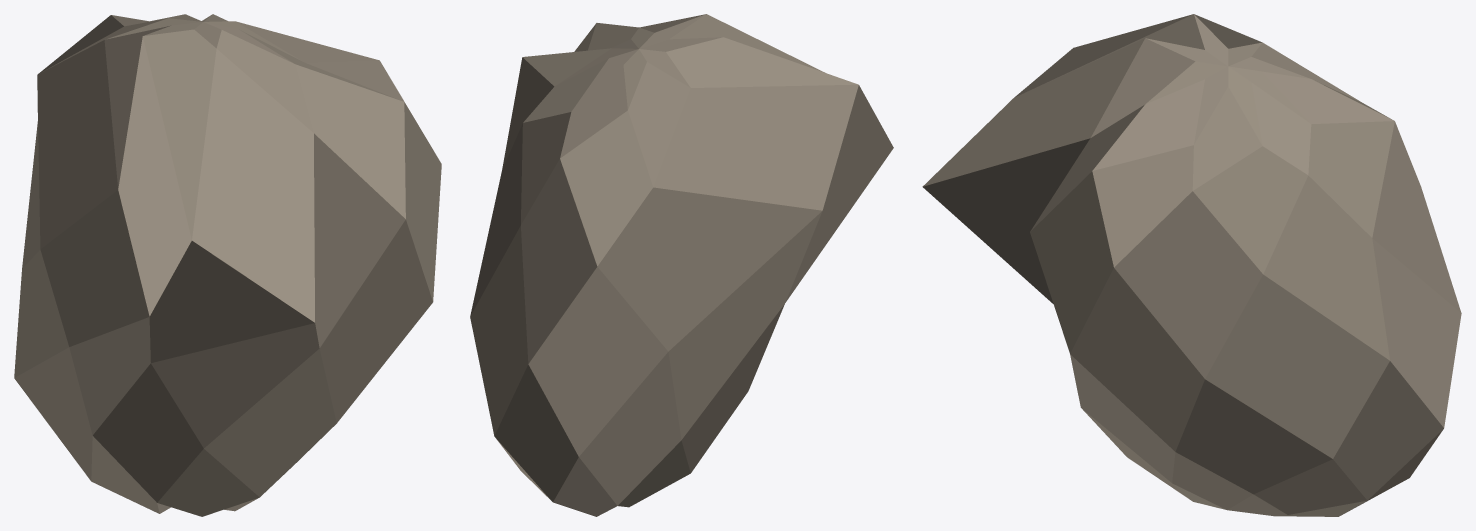
Rendered from rock 3.fbx.
The picture shows the model from 3 angles, left to right: view 1: azimuth 30°, elevation 25°; view 2: azimuth 150°, elevation 25°; view 3: azimuth 270°, elevation 25°; orthographic projection. The views are drawn at different scales.
Parts seen in each view (by area): view 1: Rock medium; view 2: Rock medium; view 3: Rock medium.
Part boxes in pixels (bbox=[...]): Rock medium: bbox=[14, 14, 441, 516]; Rock medium: bbox=[470, 14, 893, 516]; Rock medium: bbox=[922, 14, 1461, 516].
Size of the model in its own units: 529 by 721 by 754.
